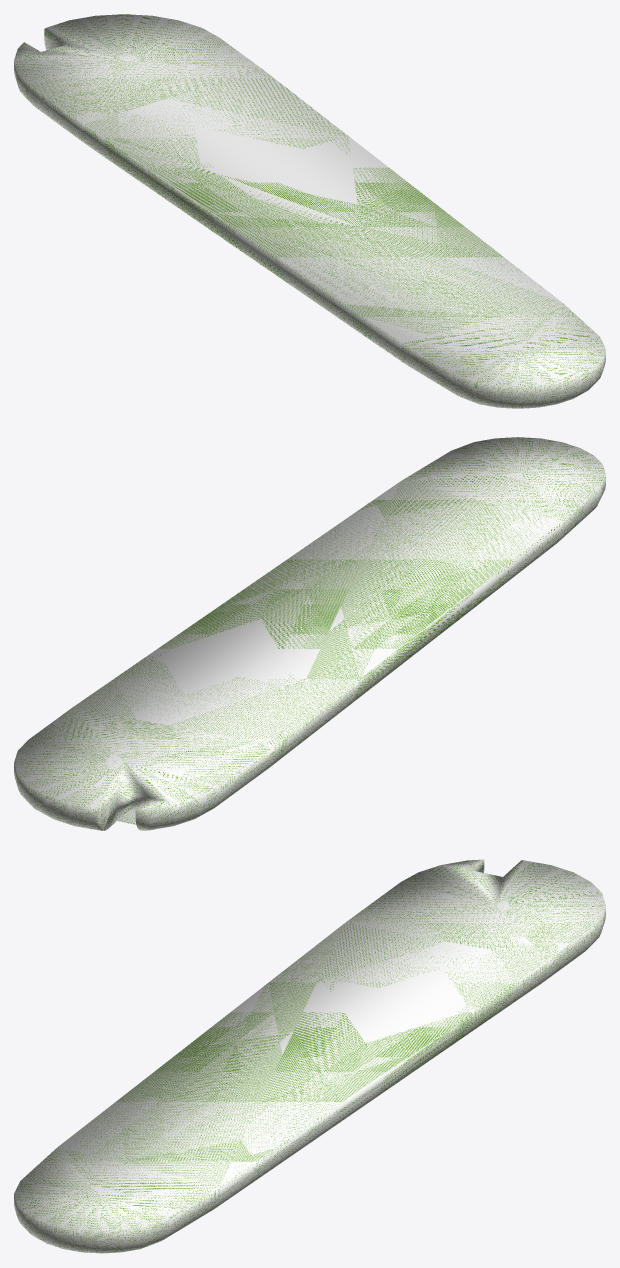
File: original-40.obj
3 renders of one model, top to bottom at view 1: azimuth 30°, elevation 25°; view 2: azimuth 150°, elevation 25°; view 3: azimuth 330°, elevation 25°, orthographic.
Parts seen in each view (by area): view 1: COVERPLATE2/COVERPLATE12/mesh35/mesh35-geometry#mesh35-geometry; view 2: COVERPLATE2/COVERPLATE12/mesh35/mesh35-geometry#mesh35-geometry; view 3: COVERPLATE2/COVERPLATE12/mesh35/mesh35-geometry#mesh35-geometry.
Boxes of the visible parts, x1,y1,x2,y2 form: COVERPLATE2/COVERPLATE12/mesh35/mesh35-geometry#mesh35-geometry: [14, 14, 605, 408]; COVERPLATE2/COVERPLATE12/mesh35/mesh35-geometry#mesh35-geometry: [14, 437, 605, 830]; COVERPLATE2/COVERPLATE12/mesh35/mesh35-geometry#mesh35-geometry: [14, 859, 605, 1253].
Size of the model in its own units: 0.2363 by 0.0354 by 1.06.
